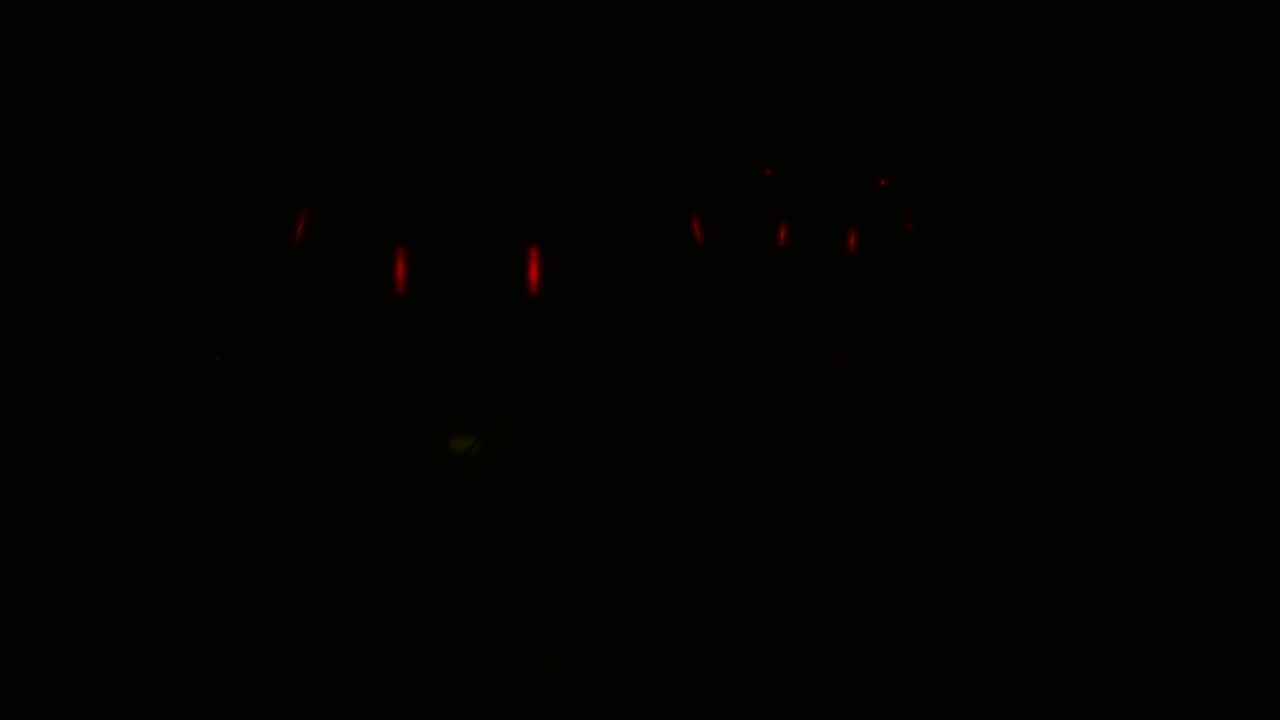pair1: (389, 238, 541, 293), (775, 211, 859, 264)
